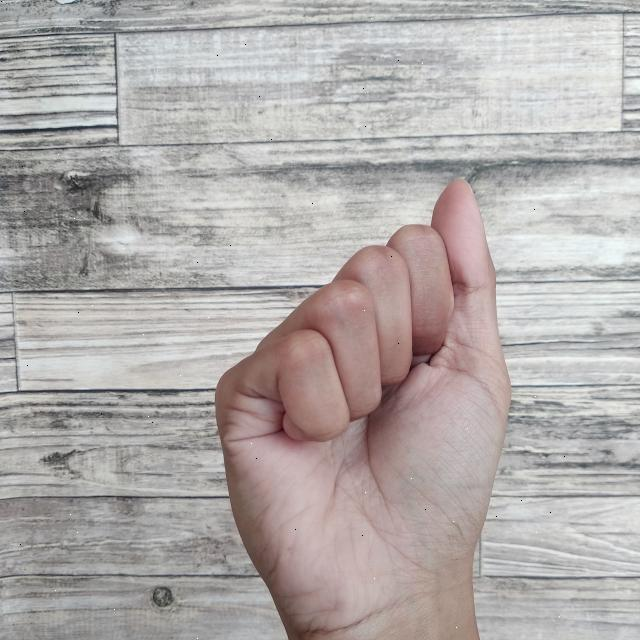A: (203, 167, 522, 640)
